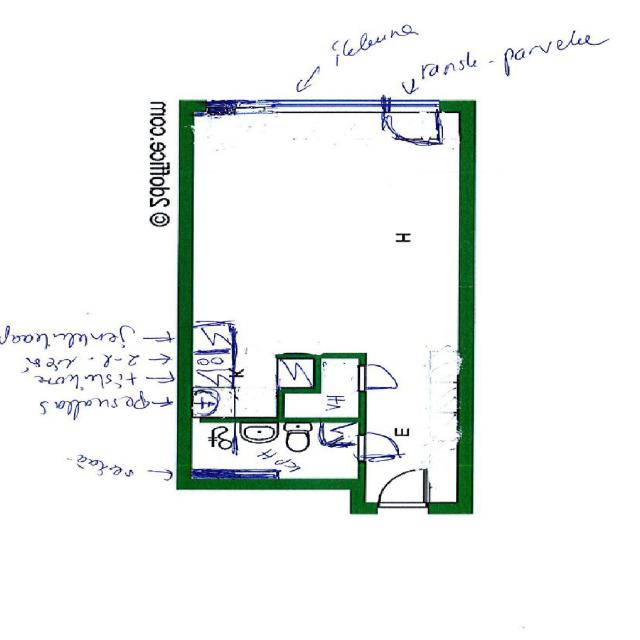door: (388, 100, 436, 147), (378, 468, 426, 514), (359, 436, 399, 460), (359, 366, 399, 390)
